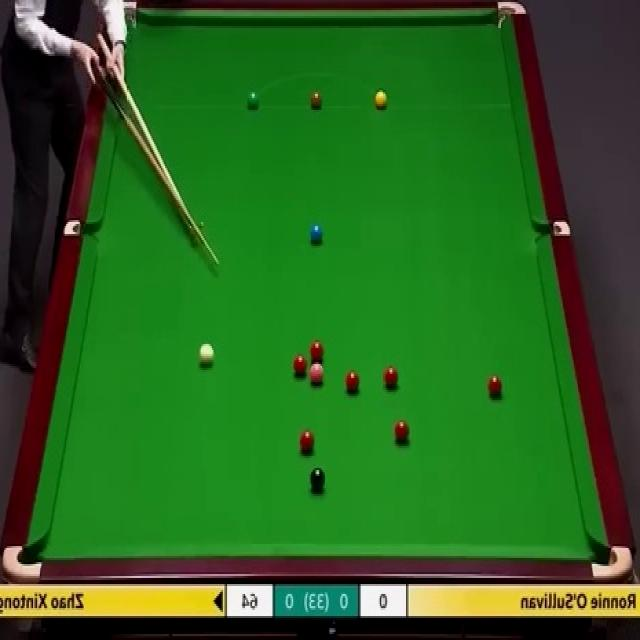black-ball: (310, 466, 324, 494)
blue-ball: (308, 224, 322, 246)
brown-ball: (310, 90, 323, 110)
green-ball: (246, 92, 258, 109)
pink-ball: (309, 362, 325, 387)
red-ball: (382, 362, 400, 390), (486, 373, 503, 398), (393, 420, 410, 444), (299, 429, 315, 453), (344, 370, 360, 392), (292, 353, 306, 378), (309, 340, 323, 364)
white-ball: (200, 343, 216, 367)
yellow-ball: (374, 90, 388, 111)
